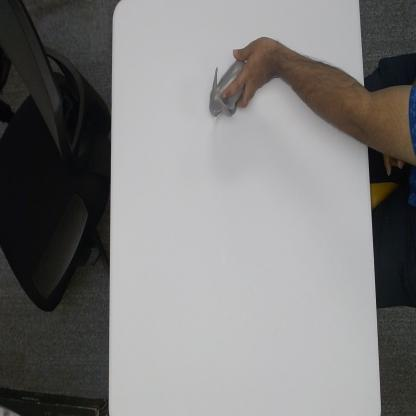Arm: (282, 43, 362, 148)
Elephant: (208, 56, 246, 122)
Hand: (222, 35, 280, 110)
